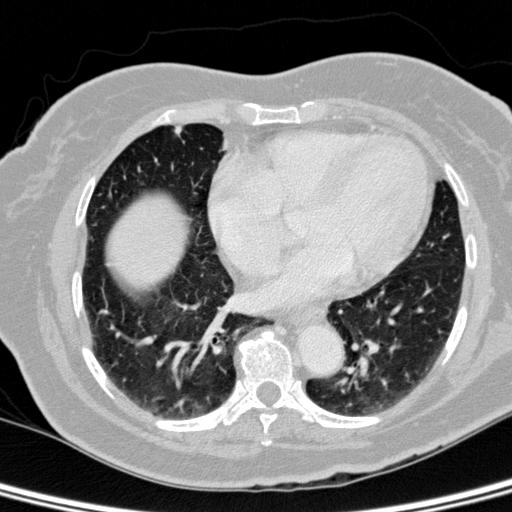nodule: (171, 124, 184, 137)
